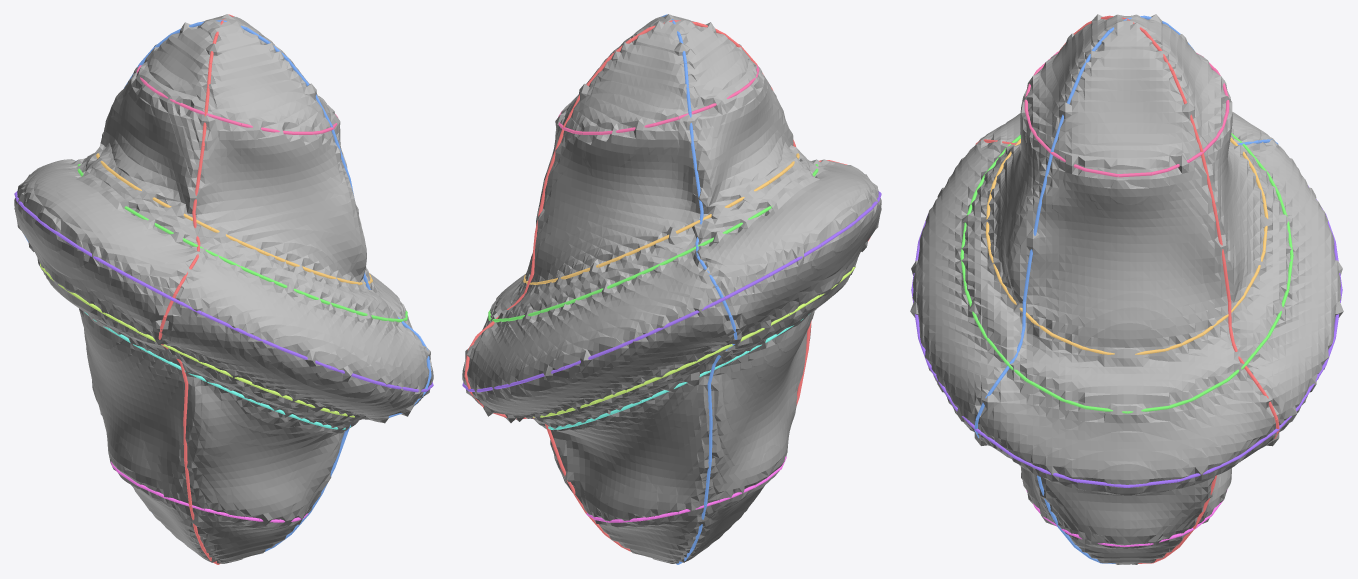
The model's file is flowrep_ellipsetorus.gltf.
The picture shows the model from 3 angles, left to right: view 1: azimuth 30°, elevation 25°; view 2: azimuth 150°, elevation 25°; view 3: azimuth 270°, elevation 25°; orthographic projection.
Size of the model in its own units: 0.4971 by 0.7105 by 0.515.
